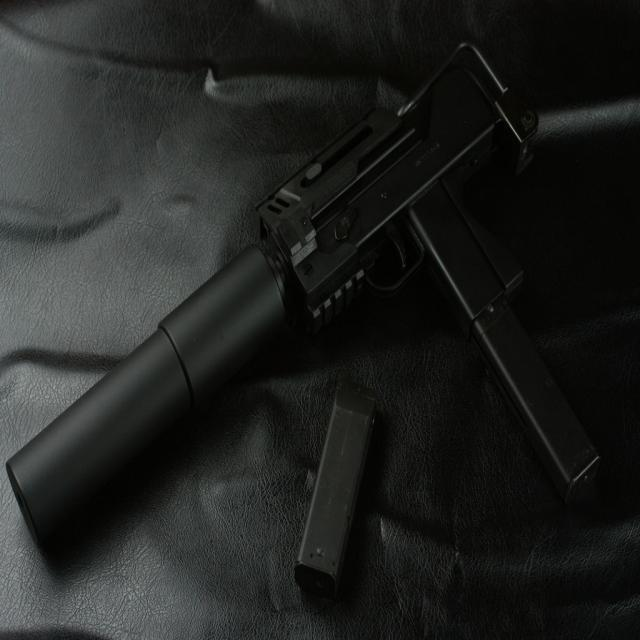Gun: (8, 44, 599, 542)
